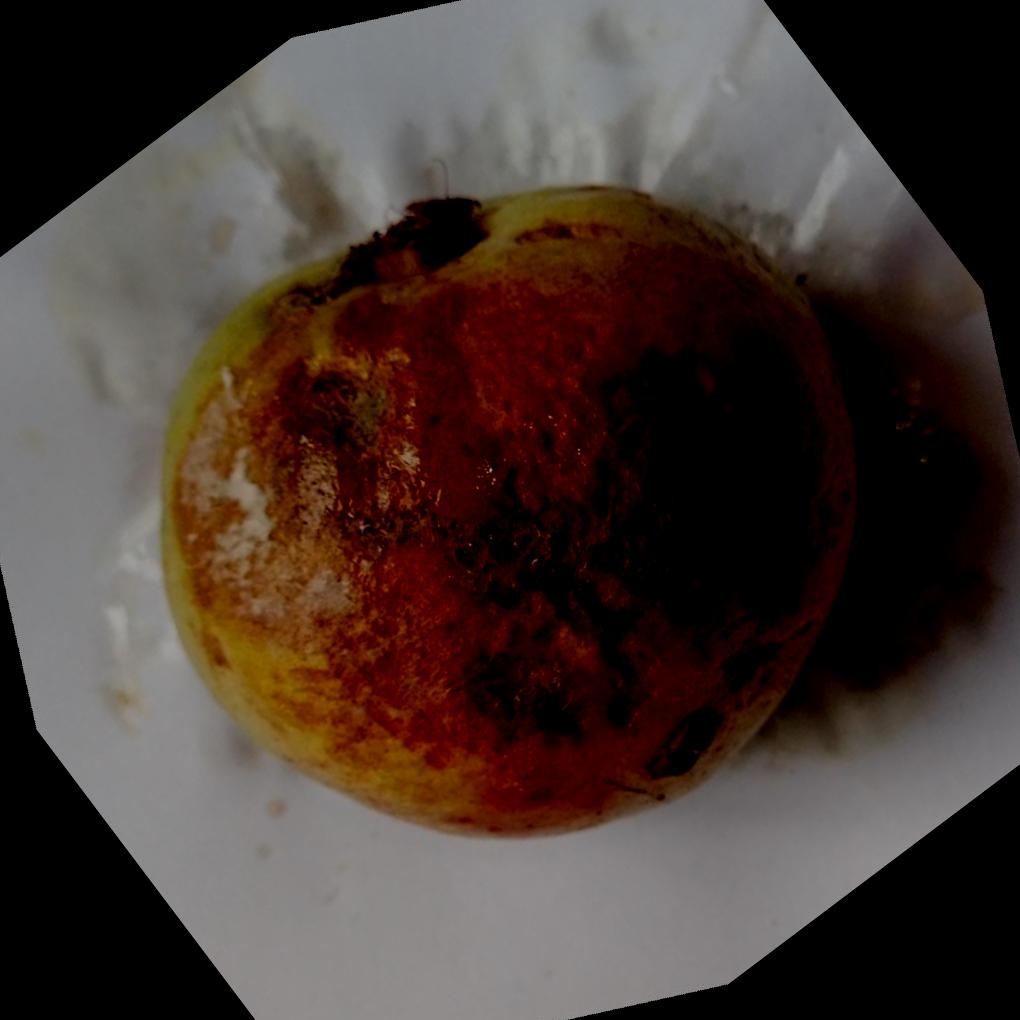FreshOrange: (160, 180, 867, 839)
